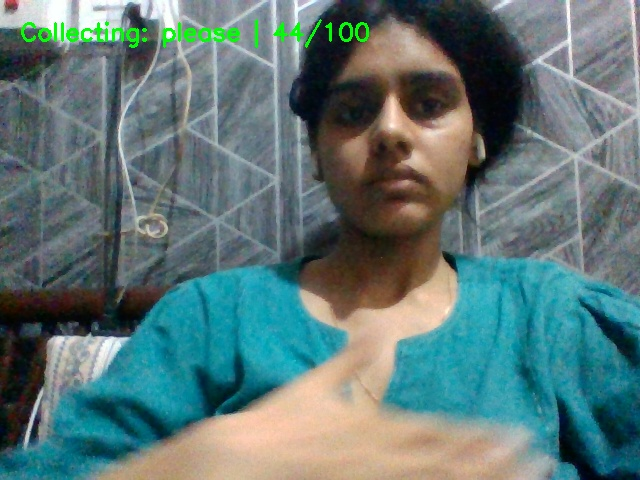please: (178, 324, 634, 480)
